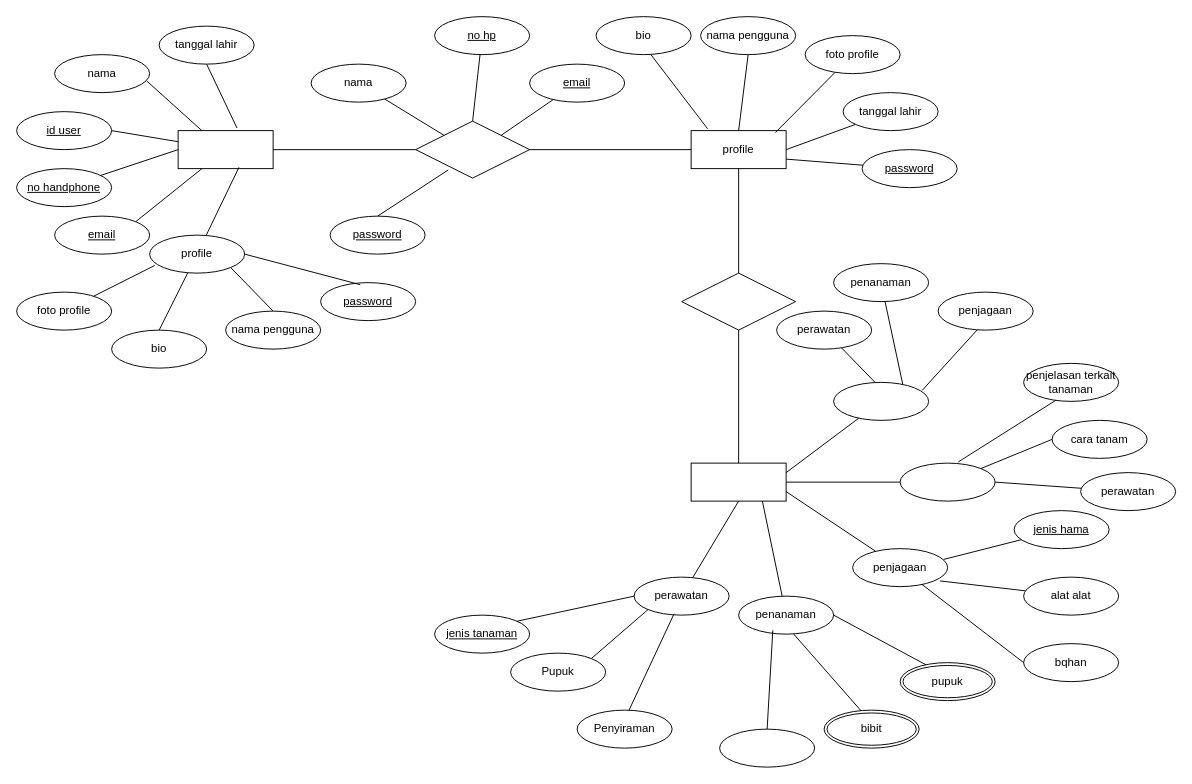
Image size: 1192x784. Some labels were removed from this diagram. Here are the shapes that lost their labels. From the top down, the centre of each, then its label:
At point 225,149: "User".
At point 472,149: "mendaftar".
At point 738,301: "menu".
At point 881,400: "test".
At point 738,481: "room".
At point 947,481: "about".
At point 767,747: "luas tanah".
